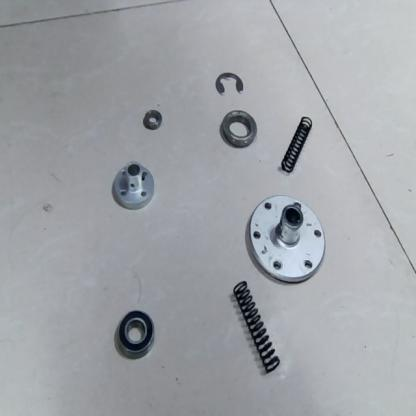FOD: (2, 2, 413, 413), (245, 192, 330, 286), (232, 277, 283, 379), (110, 160, 158, 214), (279, 112, 315, 178), (115, 306, 157, 360), (219, 108, 259, 152), (215, 68, 245, 99), (140, 106, 164, 131)
